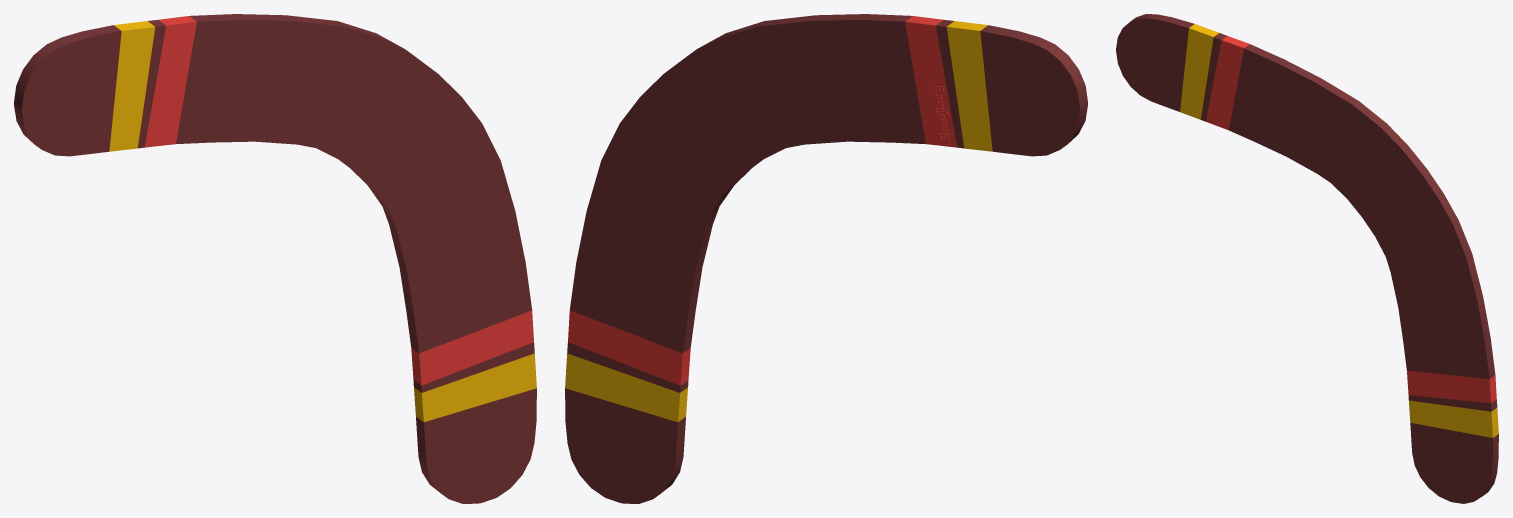
File: boomerang.fbx
3 renders of one model, left to right at view 1: azimuth 30°, elevation 25°; view 2: azimuth 150°, elevation 25°; view 3: azimuth 330°, elevation 25°, orthographic. The views are drawn at different scales.
Parts seen in each view (by area): view 1: Cube.997; view 2: Cube.997; view 3: Cube.997.
Part boxes in pixels (<box>): Cube.997: <box>14,14,536,503</box>; Cube.997: <box>565,14,1087,503</box>; Cube.997: <box>1116,14,1498,503</box>.
Bounding box in the file's own units: 209 × 218 × 5.97.
1 material, 1 textured.
